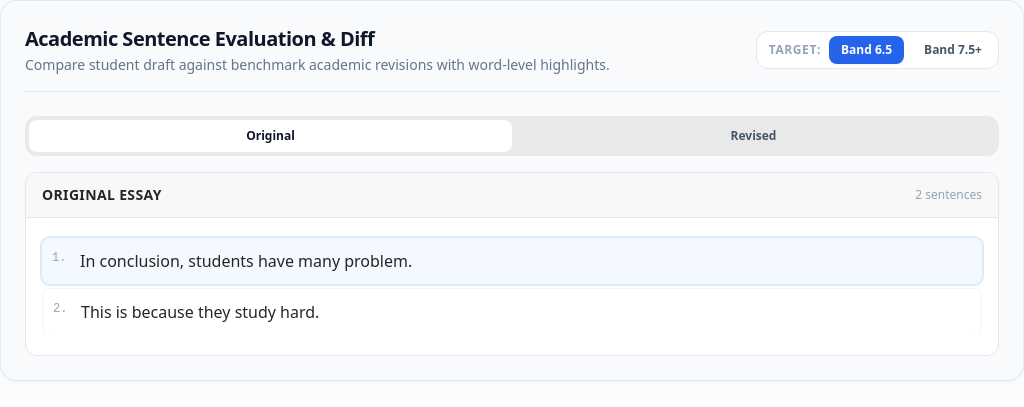
Test: SideBySideView › supports responsive mobile view with tab switcher
Expected: the tab "Original" is shown, [29, 120, 512, 152]
Expected: the text "In conclusion, students have many problem." is shown, [80, 248, 412, 274]
// Switch to Revised tab
Click the tab "Revised" at (754, 136), box [512, 120, 995, 152]
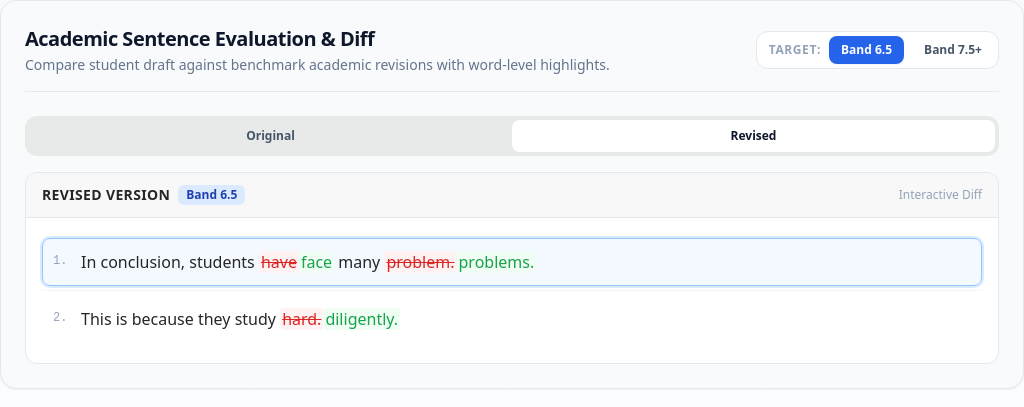
Now the text "face" is shown, box [299, 251, 334, 273]
